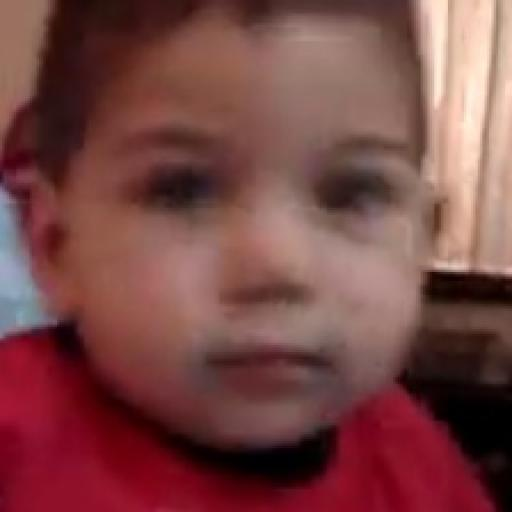Autism: (123, 92, 419, 416)
